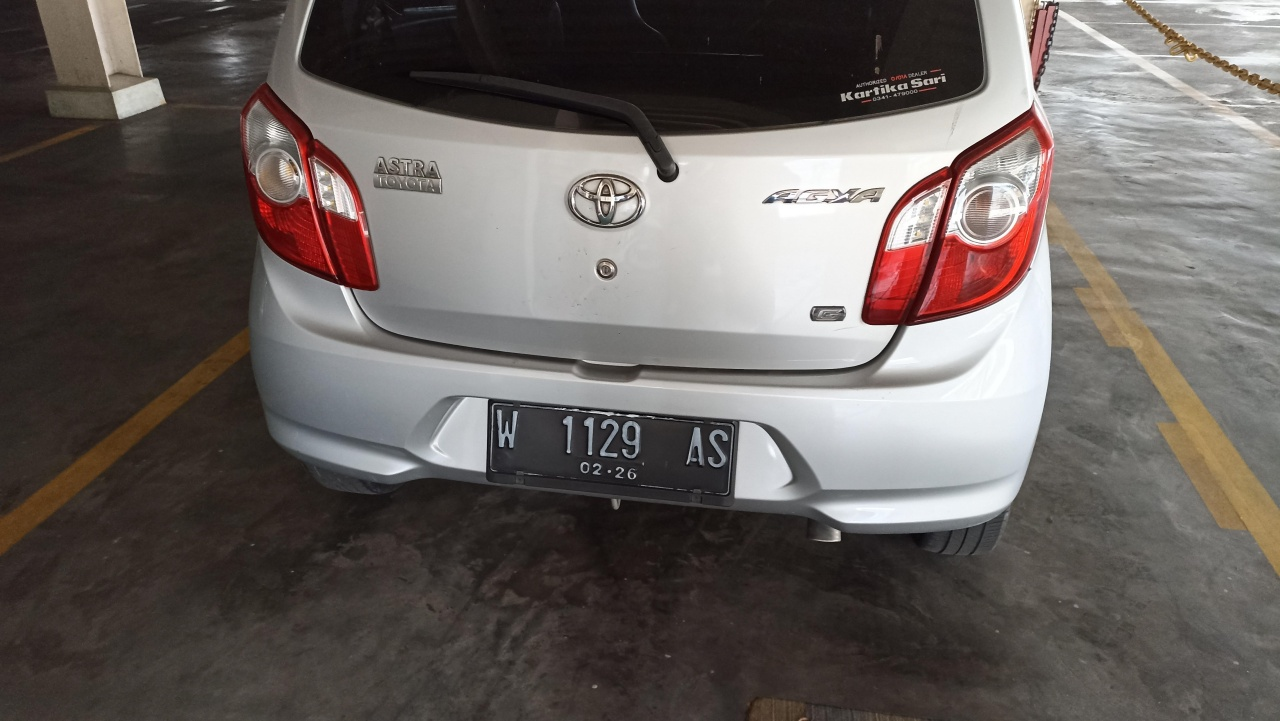plate: (489, 403, 734, 498)
